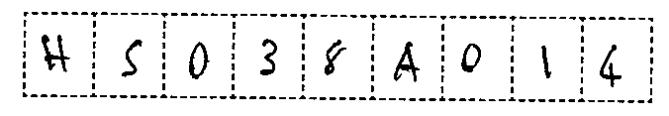0: (180, 39, 216, 82), (453, 36, 488, 78)
1: (530, 41, 564, 84)
3: (252, 36, 285, 84)
4: (596, 39, 630, 94)
8: (314, 36, 351, 78)
A: (388, 38, 424, 88)
H: (32, 29, 76, 77)
S: (119, 35, 145, 83)
